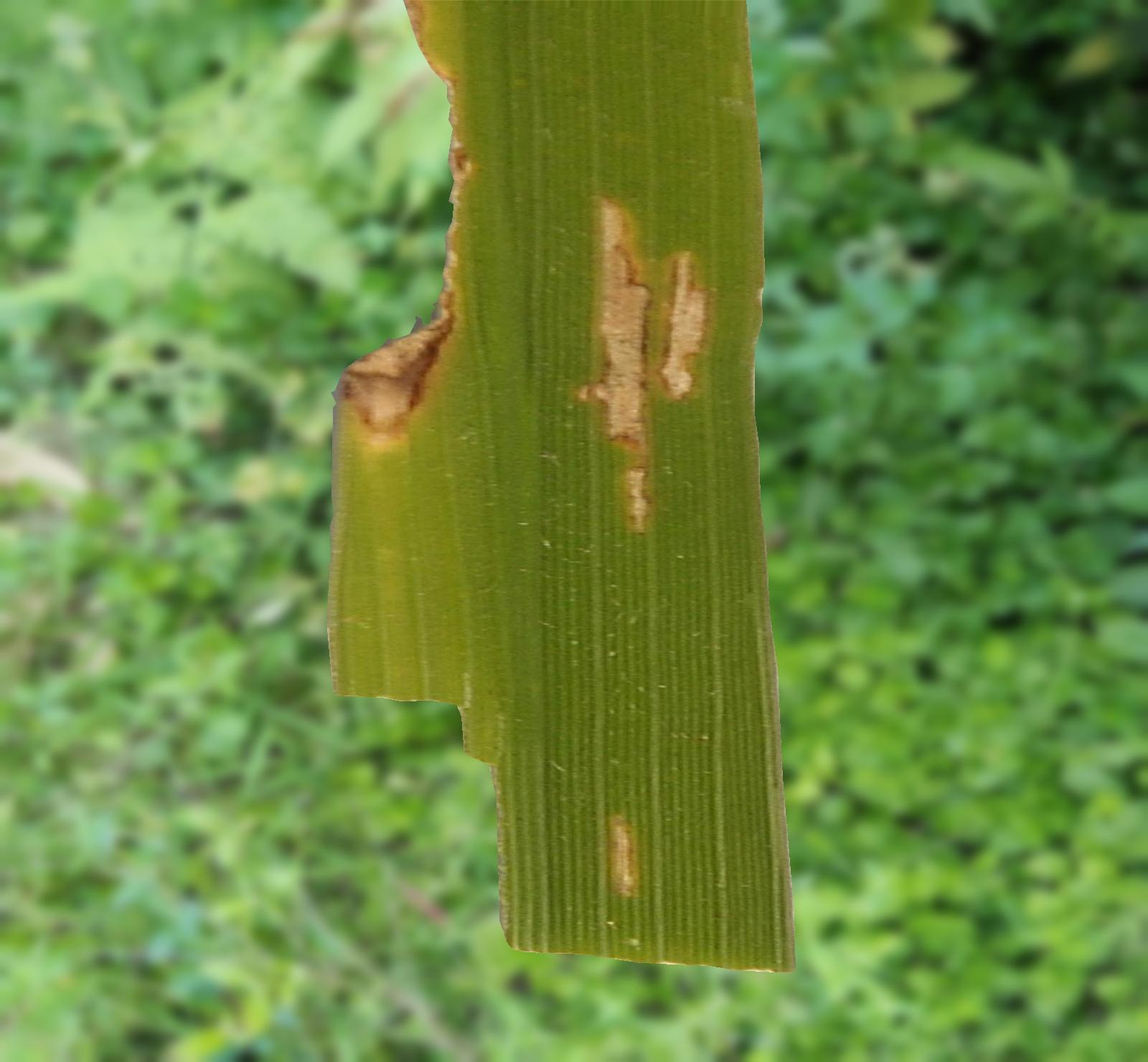BLS: (579, 199, 650, 452), (661, 252, 708, 399), (608, 815, 639, 898)
LEAF: (326, 0, 795, 972)
